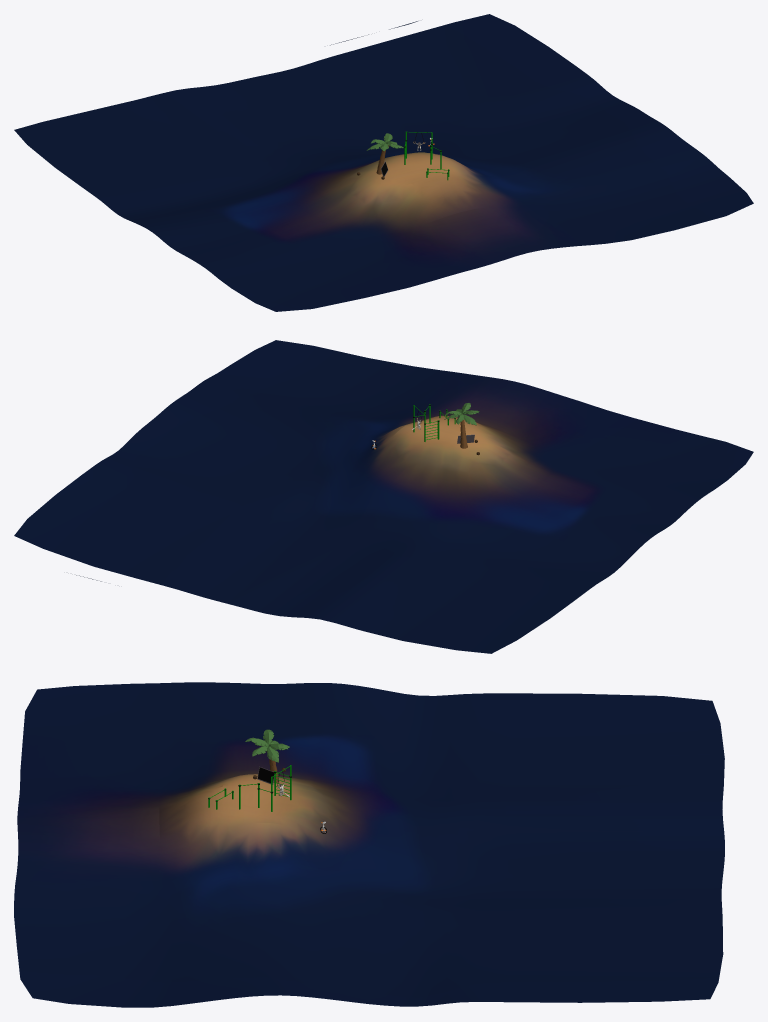
File: myWorkoutRoom.glb
The picture shows the model from 3 angles, top to bottom: view 1: azimuth 30°, elevation 25°; view 2: azimuth 150°, elevation 25°; view 3: azimuth 270°, elevation 25°; orthographic projection. The views are drawn at different scales.
Visible parts, largest first — view 1: Sea_floor; view 2: Sea_floor, Palm_tree; view 3: Sea_floor, Palm_tree.
Part boxes in pixels (<box>): Sea_floor: <box>14,14,753,311</box>; Sea_floor: <box>14,340,753,653</box>; Palm_tree: <box>444,403,479,448</box>; Sea_floor: <box>14,682,724,1007</box>; Palm_tree: <box>245,729,289,782</box>.
Bounding box in the file's own units: 58.97 × 9.09 × 58.57.
36 materials, 2 textured.
